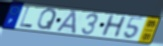3: (81, 12, 99, 35)
5: (122, 16, 146, 41)
A: (55, 10, 77, 35)
H: (99, 13, 129, 38)
L: (18, 6, 33, 29)
Q: (36, 8, 58, 31)
